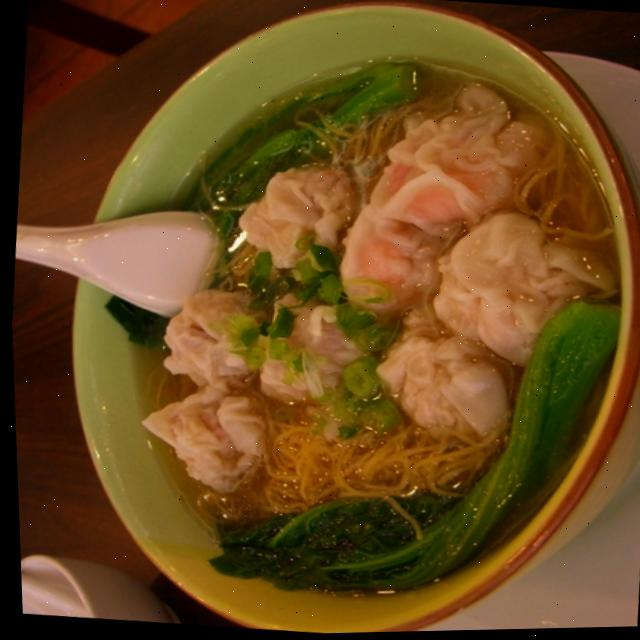汤锅炖物: (86, 40, 640, 569)
